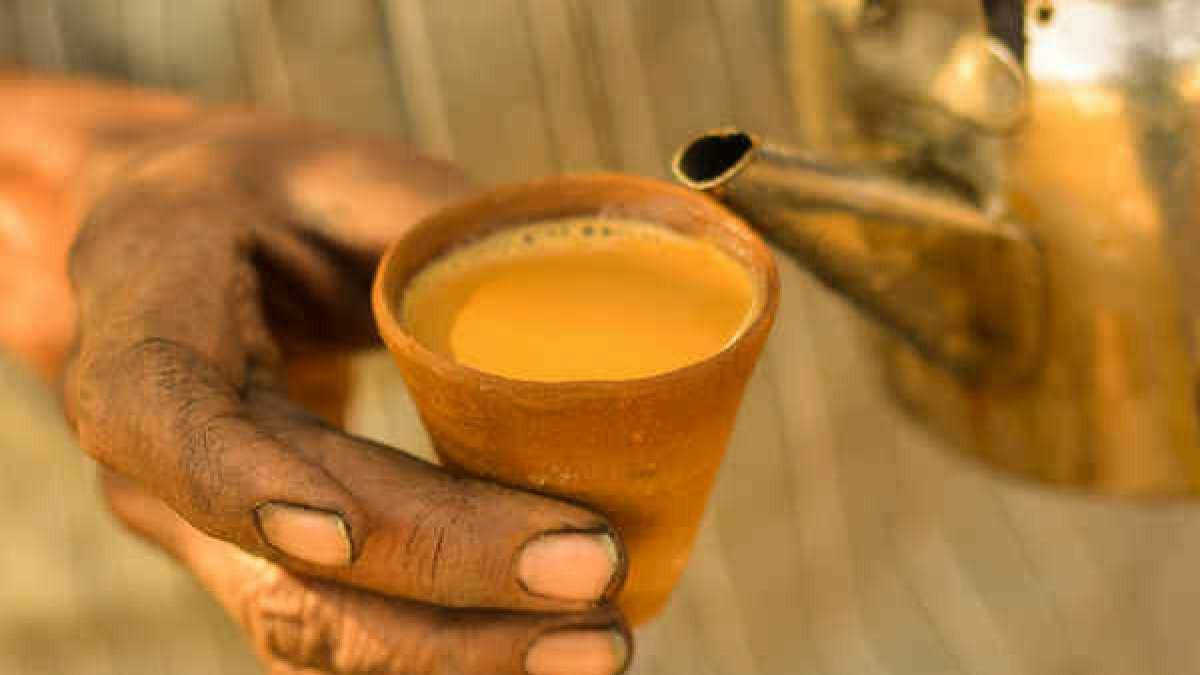Chai: (407, 221, 761, 374)
